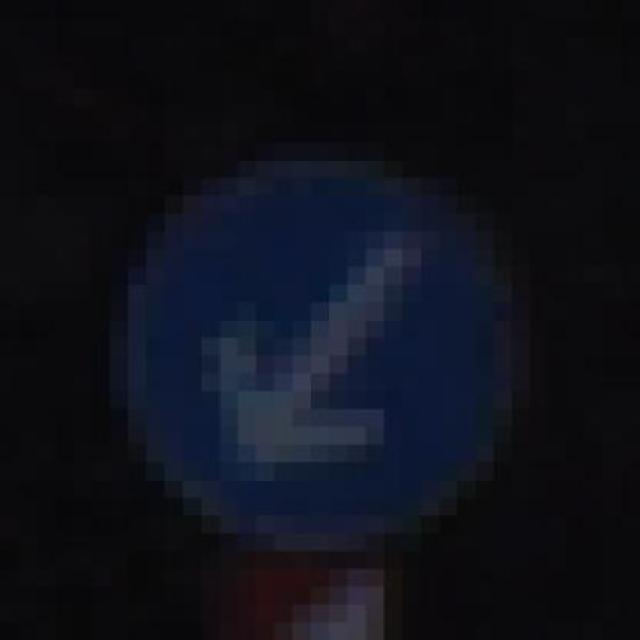Keep-Left: (110, 89, 548, 569)
